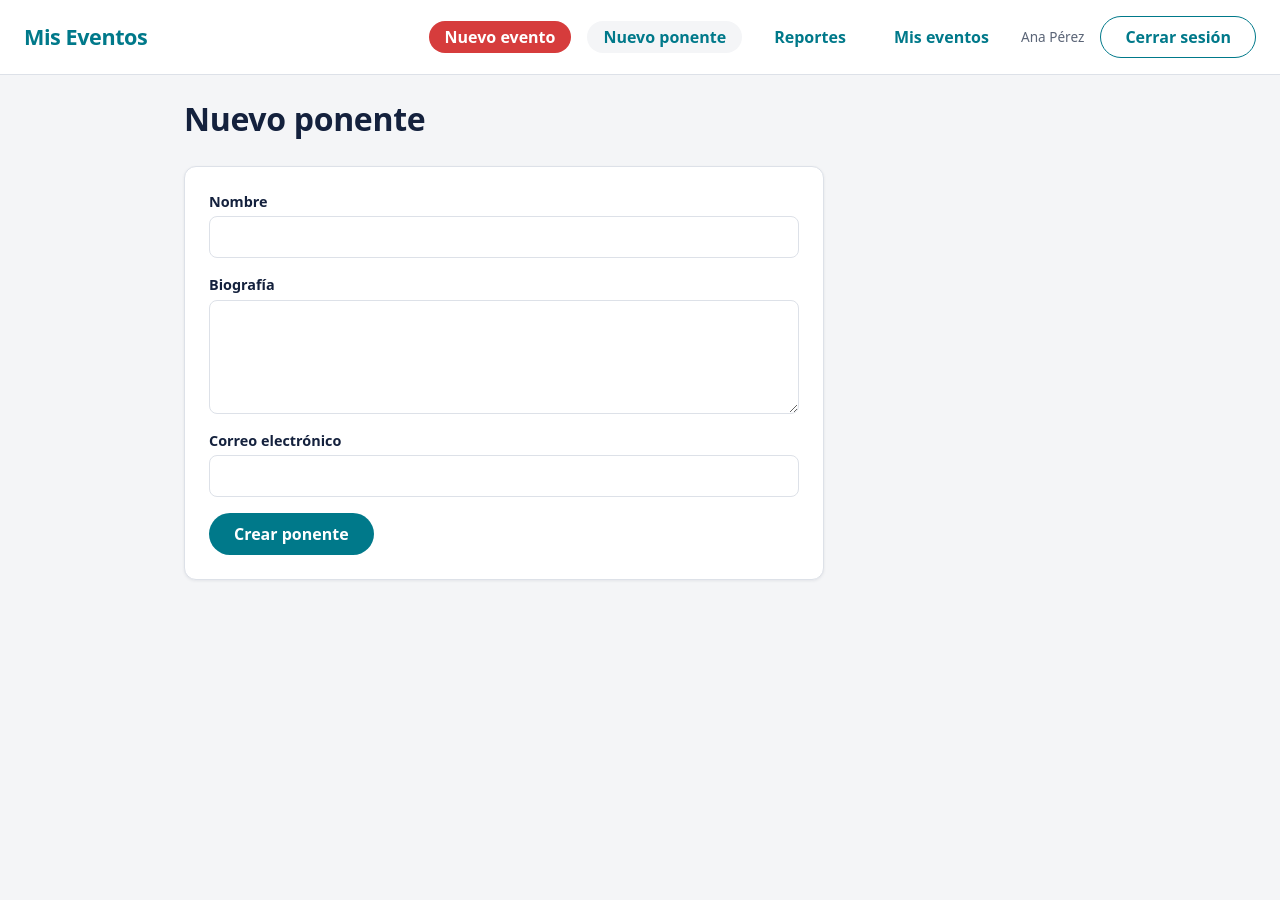
Test: SpeakerFormPage › stays on the form and shows the backend message when creation fails
Type "Grace Hopper" into the field labelled "Nombre" at (504, 237), box x1=209 y1=216 x2=799 y2=258
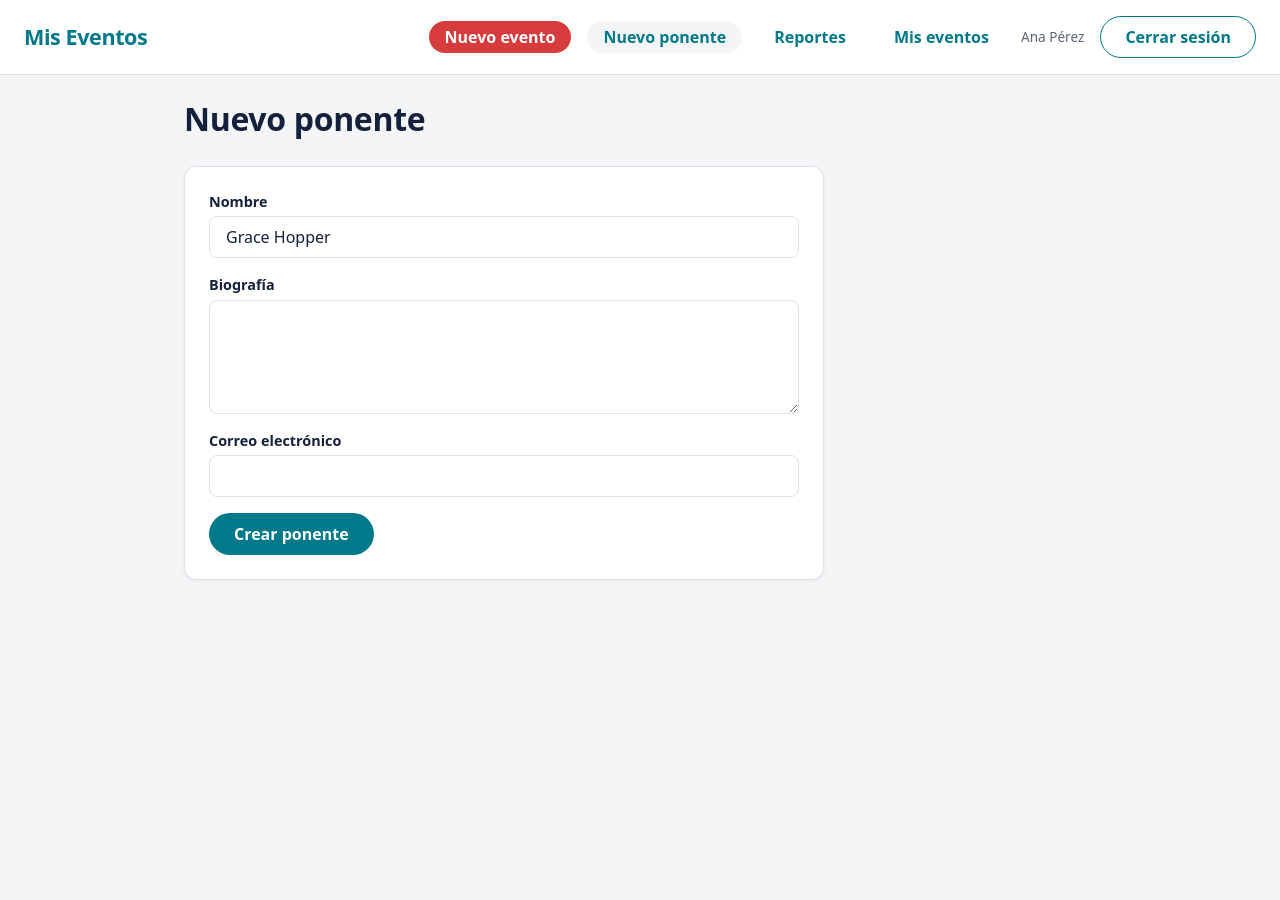
Click the button "Crear ponente" at (291, 534), box x1=209 y1=513 x2=374 y2=555
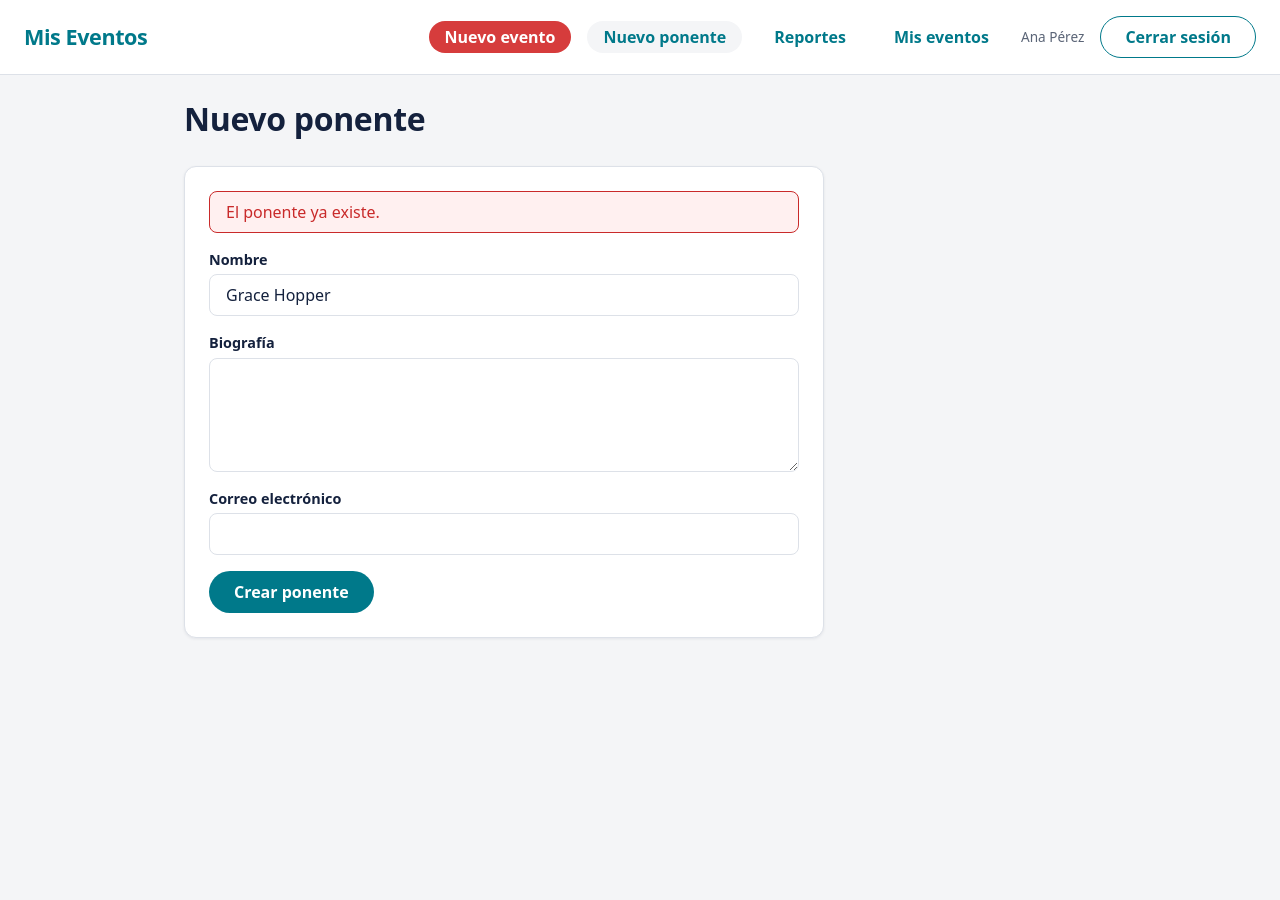
Expected: the message reads "El ponente ya existe.", x1=226 y1=200 x2=380 y2=222
